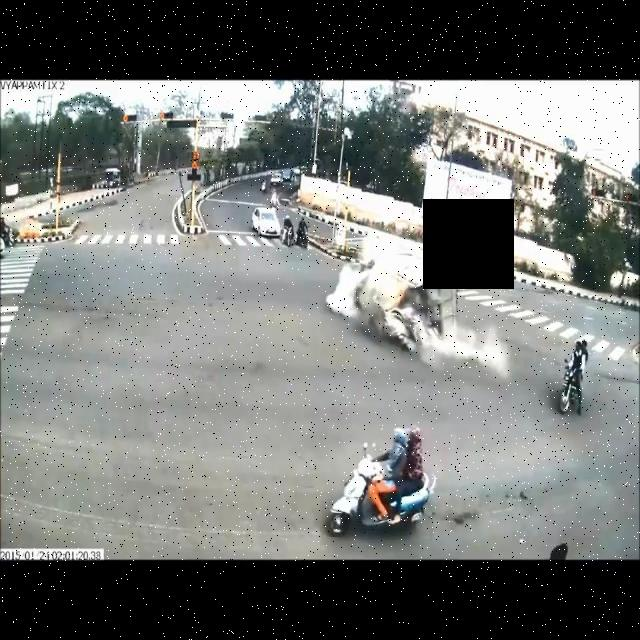severe: (347, 224, 462, 350)
